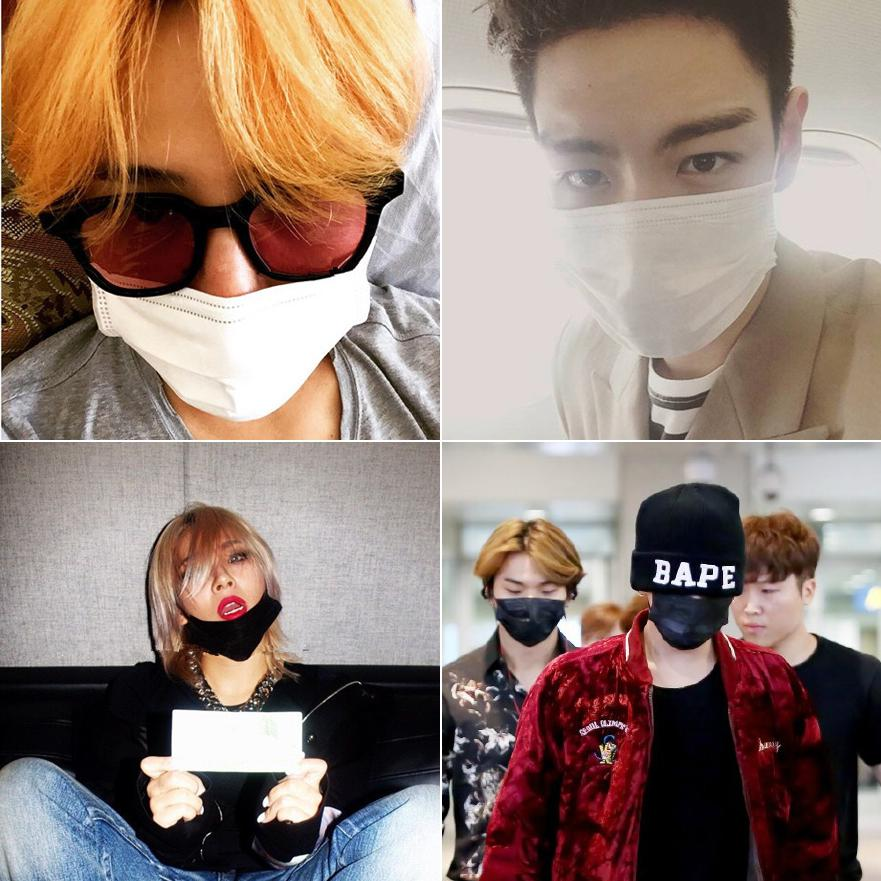NONE: (731, 562, 800, 647)
OK: (541, 94, 791, 344), (650, 573, 736, 655), (495, 573, 568, 646)
WRONG: (61, 87, 382, 408), (168, 536, 282, 650)
